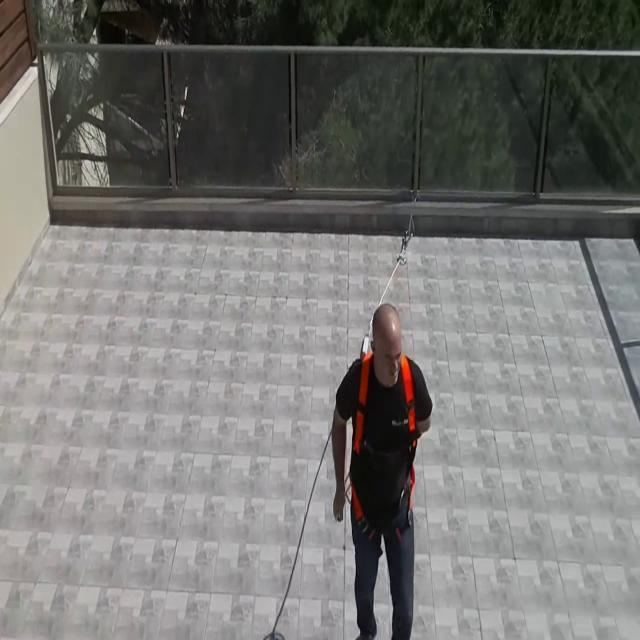safety belt: (336, 341, 434, 533)
